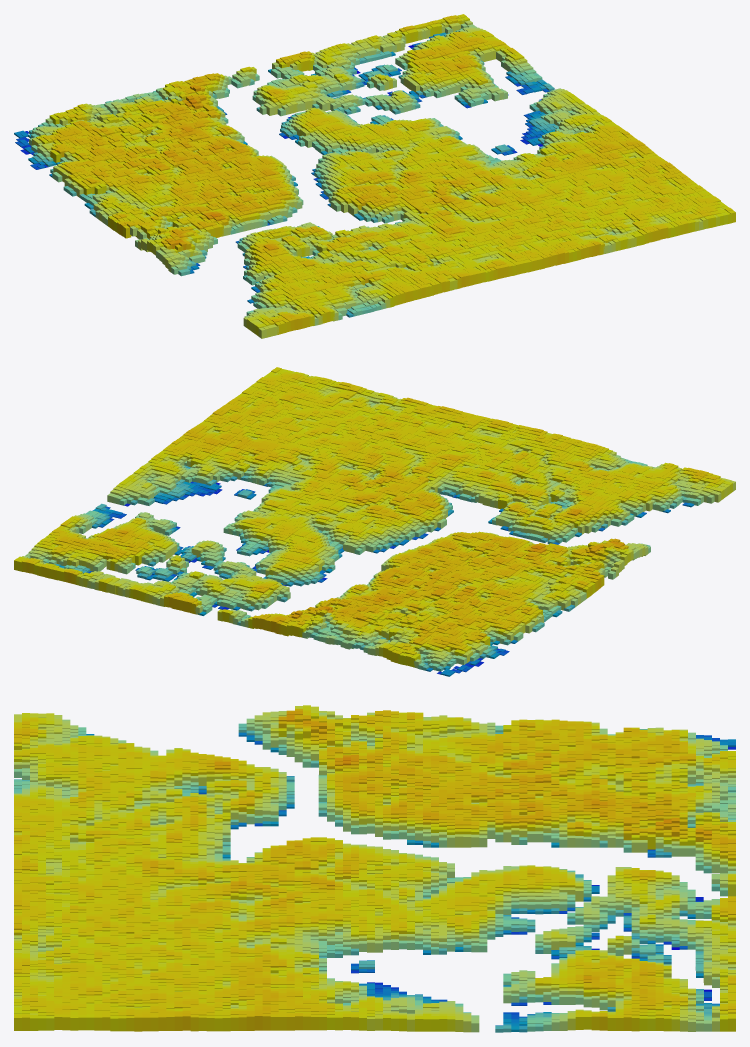
The model's file is population.glb.
3 views of the same model, one above another, from view 1: azimuth 30°, elevation 25°; view 2: azimuth 150°, elevation 25°; view 3: azimuth 270°, elevation 25° (orthographic). The views are drawn at different scales.
Parts seen in each view (by area): view 1: population; view 2: population; view 3: population.
Part boxes in pixels (box(x1,y1,x2,y2)): population: box(14, 14, 735, 338); population: box(14, 367, 735, 676); population: box(14, 705, 735, 1032).
Size of the model in its own units: 9042 by 320 by 8979.
